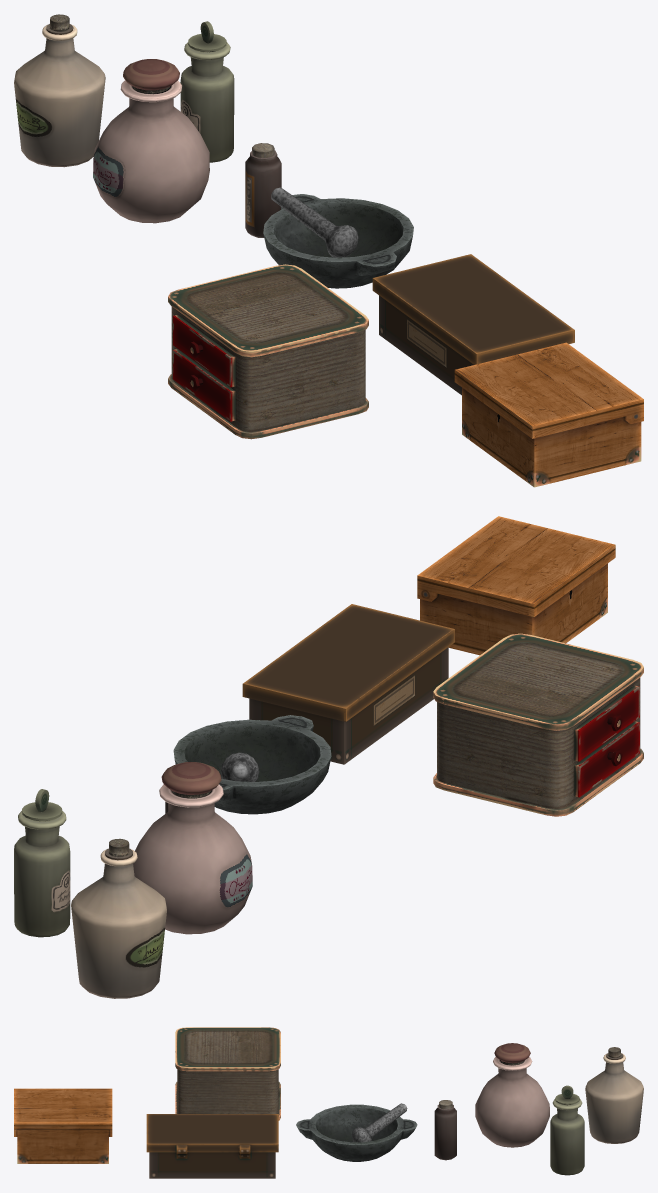
Rendered from laboratory props.FBX.
3 renders of one model, top to bottom at view 1: azimuth 30°, elevation 25°; view 2: azimuth 150°, elevation 25°; view 3: azimuth 270°, elevation 25°, orthographic. The views are drawn at different scales.
Visible parts, largest first — view 1: 33346, 032, 33347, 33341, 33340, 33344, 33343, 33342, 33345; view 2: 33346, 33347, 032, 33341, 33340, 33344, 33343, 33345; view 3: 33346, 33347, 032, 33341, 33344, 33340, 33343, 33342, 33345.
Part boxes in pixels (x1,y1,x2,y2): 33346: [168, 264, 368, 439]; 032: [454, 342, 643, 487]; 33347: [372, 254, 574, 395]; 33341: [93, 59, 209, 223]; 33340: [14, 14, 105, 167]; 33344: [263, 194, 413, 288]; 33343: [180, 21, 234, 162]; 33342: [245, 143, 281, 237]; 33345: [271, 187, 358, 257]; 33346: [433, 633, 643, 816]; 33347: [242, 604, 454, 764]; 032: [417, 516, 615, 655]; 33341: [133, 762, 252, 934]; 33340: [71, 838, 166, 998]; 33344: [173, 715, 331, 814]; 33343: [14, 789, 70, 937]; 33345: [220, 752, 259, 781]; 33346: [175, 1027, 280, 1120]; 33347: [146, 1114, 278, 1178]; 032: [14, 1088, 112, 1163]; 33341: [475, 1043, 549, 1147]; 33344: [296, 1104, 417, 1161]; 33340: [585, 1047, 643, 1143]; 33343: [550, 1085, 584, 1175]; 33342: [434, 1100, 456, 1160]; 33345: [351, 1103, 407, 1142].
Bounding box in the file's own units: 78.46 × 33.43 × 209.
1 material, 1 textured.
